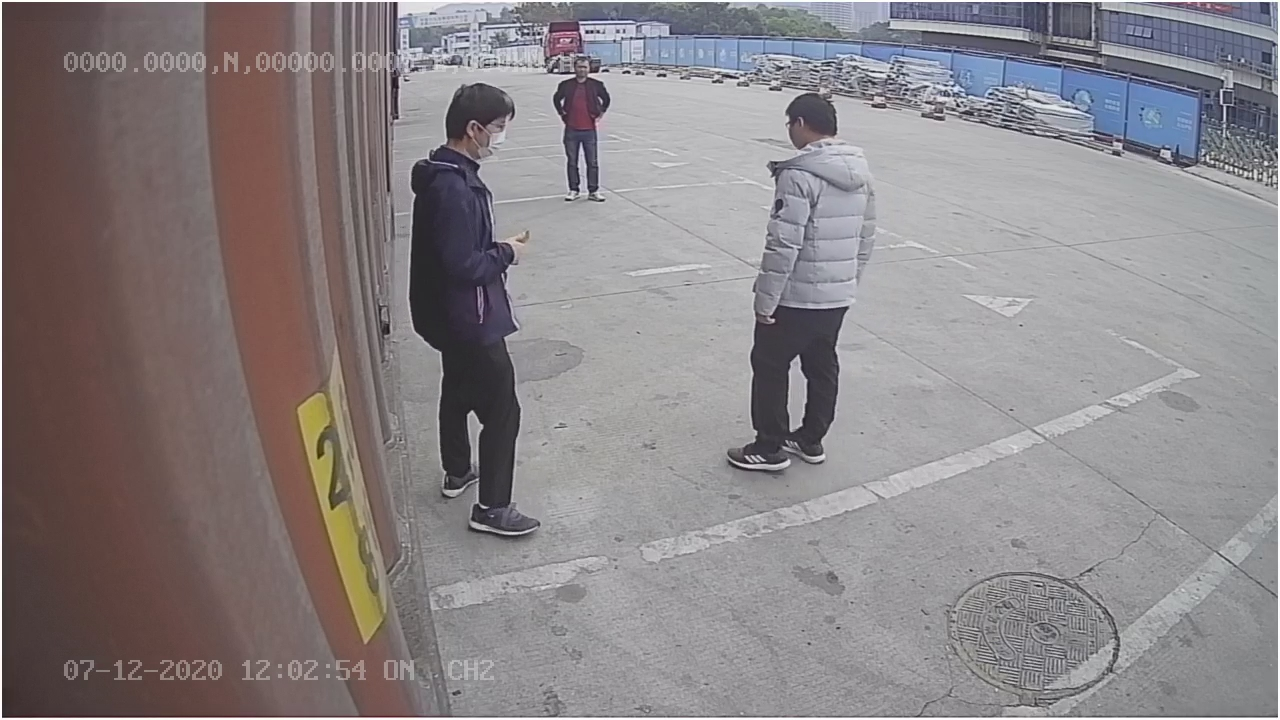person: (725, 88, 882, 476)
